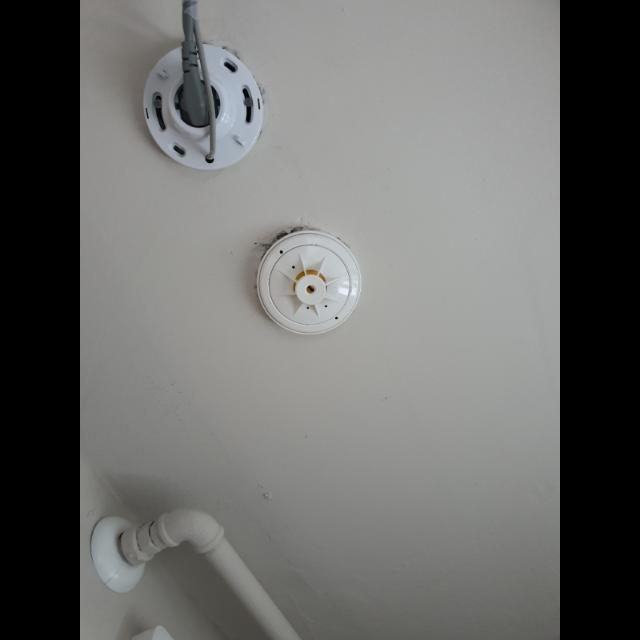Smoke-Detector: (255, 231, 362, 335)
